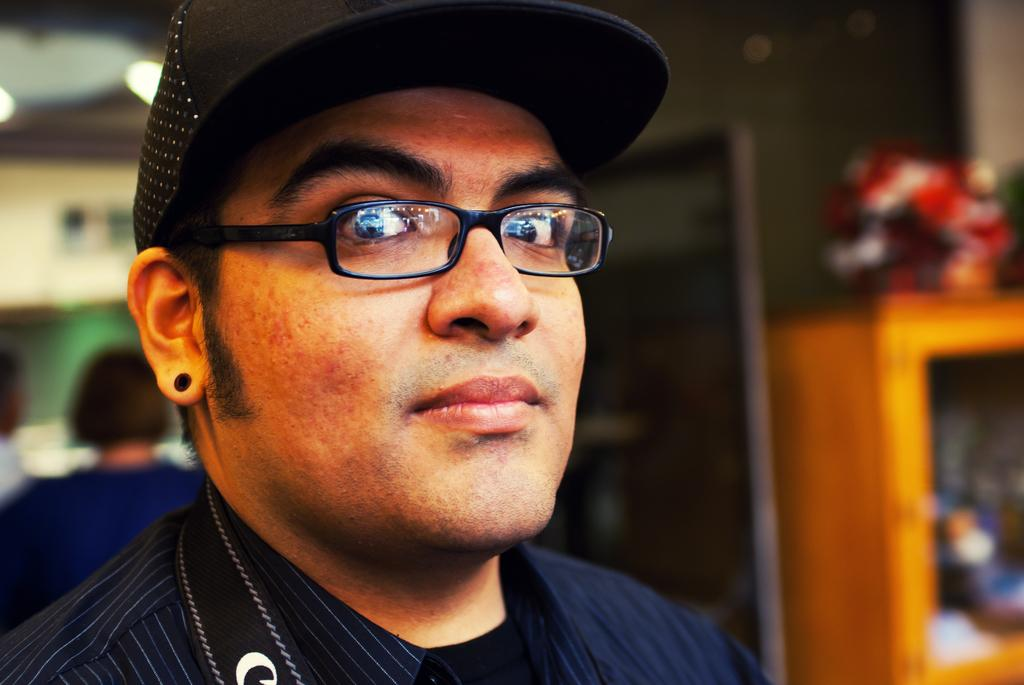Hat: (128, 0, 668, 253)
